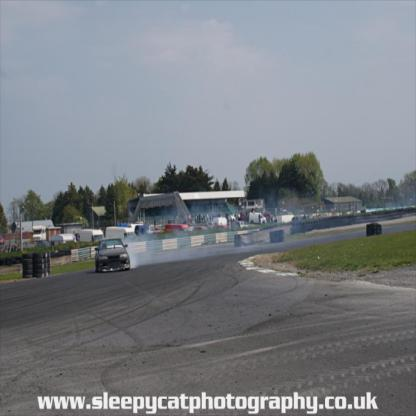car: (93, 229, 131, 274)
